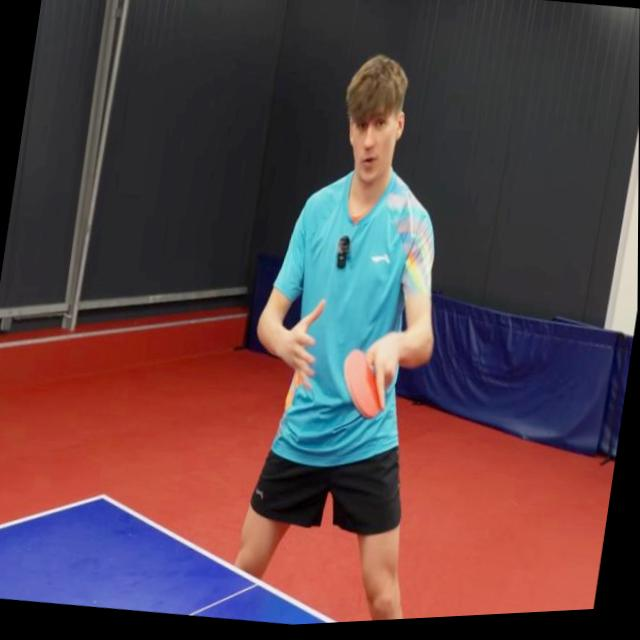TT Racket: (332, 339, 397, 429)
TT Table: (0, 491, 336, 624)
